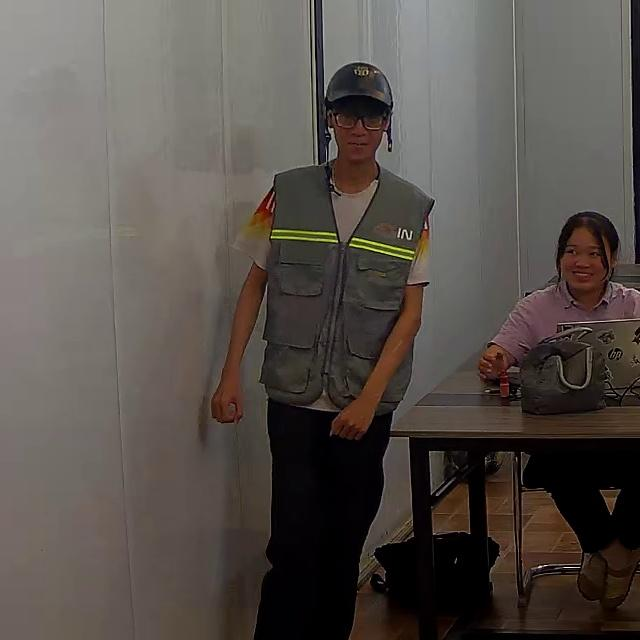helmet: (325, 61, 395, 110)
no_helmet: (555, 210, 620, 281)
none: (488, 278, 639, 370)
vest: (260, 168, 427, 410)
